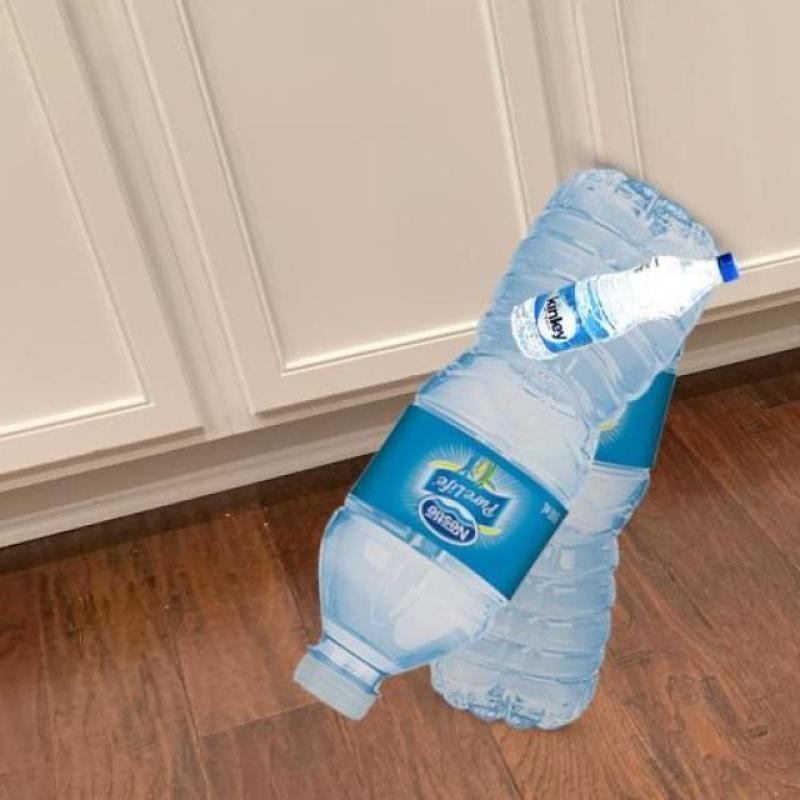botella: (290, 170, 722, 720), (430, 350, 685, 739), (510, 252, 740, 362)
